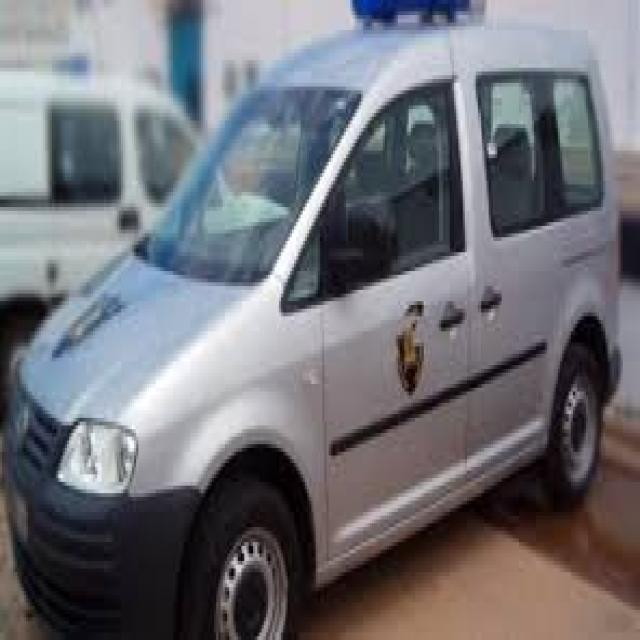gendarme car: (6, 7, 594, 619)
